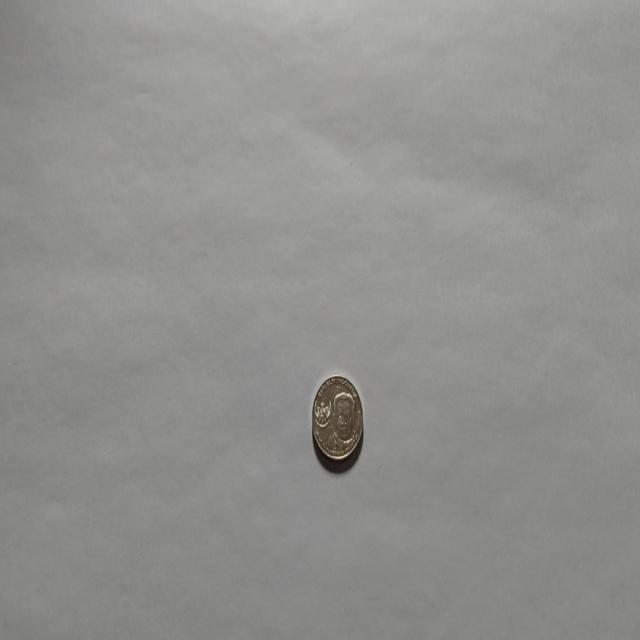seratus rupiah: (311, 373, 364, 463)
